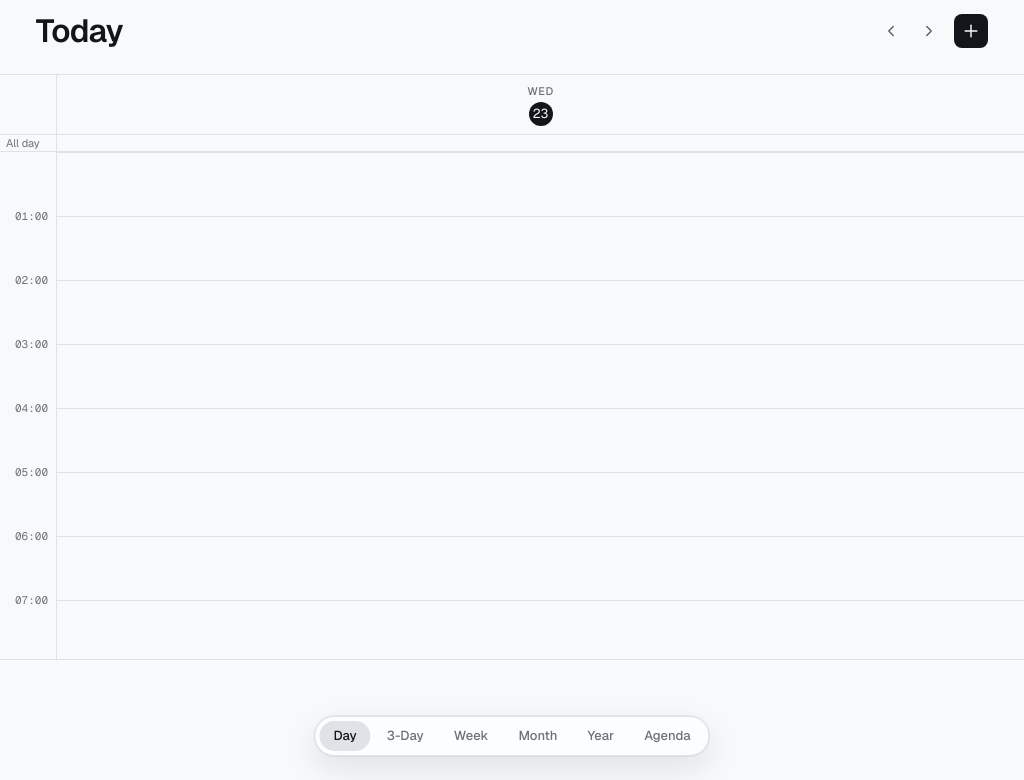
Scenario: CalendarBoard continuous Month view › Next moves the title to the following month
Click the tab "Month".
click(538, 736)  # box [504,721,571,751]
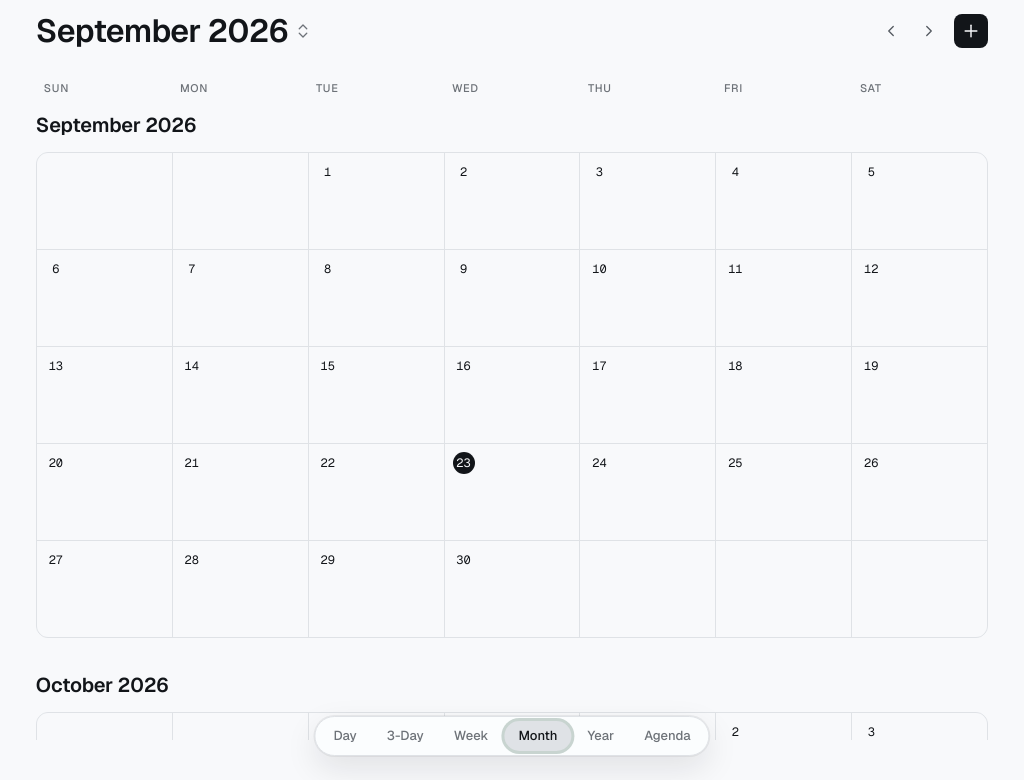
Click the button named "Next".
click(929, 31)  # box [912,14,946,48]
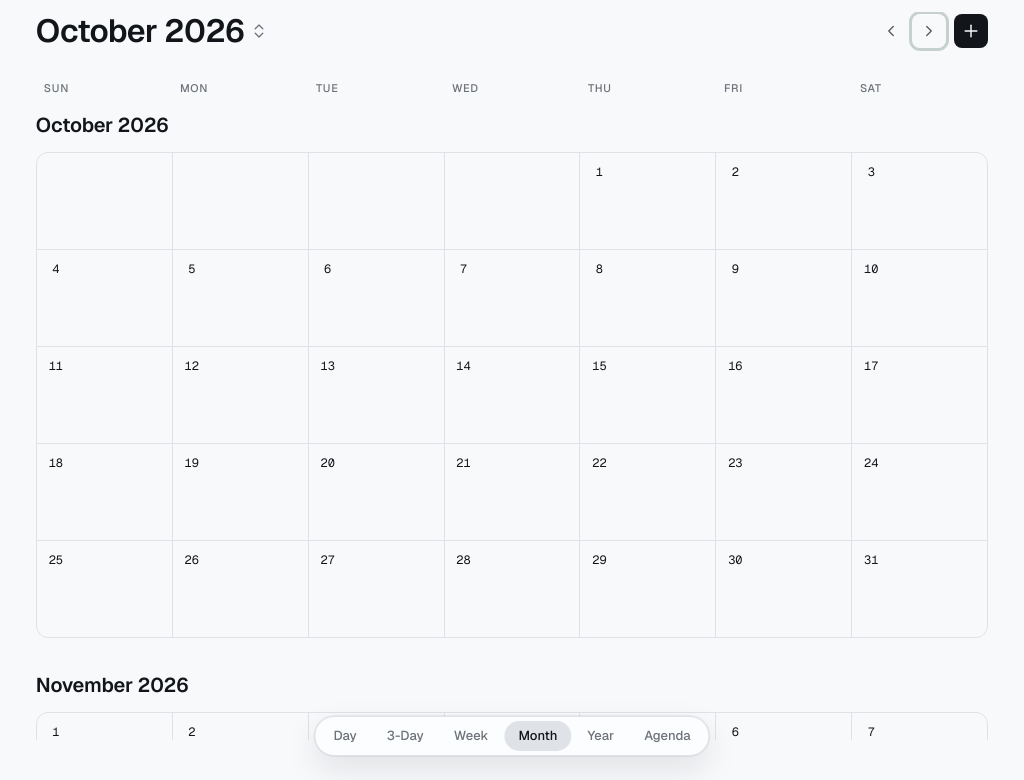
expect the button "October 2026" is shown: met, box [36,12,268,50]
